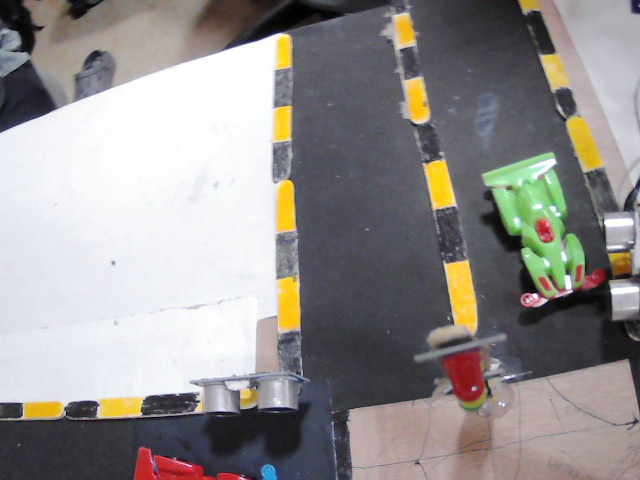black_strip: (435, 207, 462, 263), (146, 388, 199, 414), (275, 231, 303, 279), (523, 8, 551, 51), (587, 166, 611, 210), (271, 67, 297, 107), (418, 119, 440, 161), (555, 87, 581, 120), (398, 47, 424, 80), (65, 399, 100, 421), (280, 326, 298, 366), (272, 144, 292, 180), (3, 403, 24, 418), (629, 314, 639, 337), (394, 2, 410, 13)
car: (480, 142, 604, 304), (127, 443, 286, 480)
mixed_lane: (386, 0, 481, 334), (516, 0, 617, 216), (268, 35, 307, 371), (0, 385, 206, 424), (605, 248, 632, 275), (239, 385, 256, 412), (625, 314, 640, 341)
traffic_light: (424, 323, 508, 420)
uno_breadboard: (199, 359, 305, 426), (599, 202, 640, 319)
yellow_strip: (444, 261, 479, 324), (566, 119, 604, 169), (275, 275, 303, 331), (271, 182, 295, 230), (426, 161, 452, 204), (541, 53, 570, 90), (405, 80, 427, 121), (272, 105, 294, 142), (98, 399, 143, 417), (392, 14, 414, 44), (273, 35, 291, 70), (25, 401, 65, 415), (609, 255, 626, 273), (518, 0, 537, 15), (241, 393, 251, 407)
